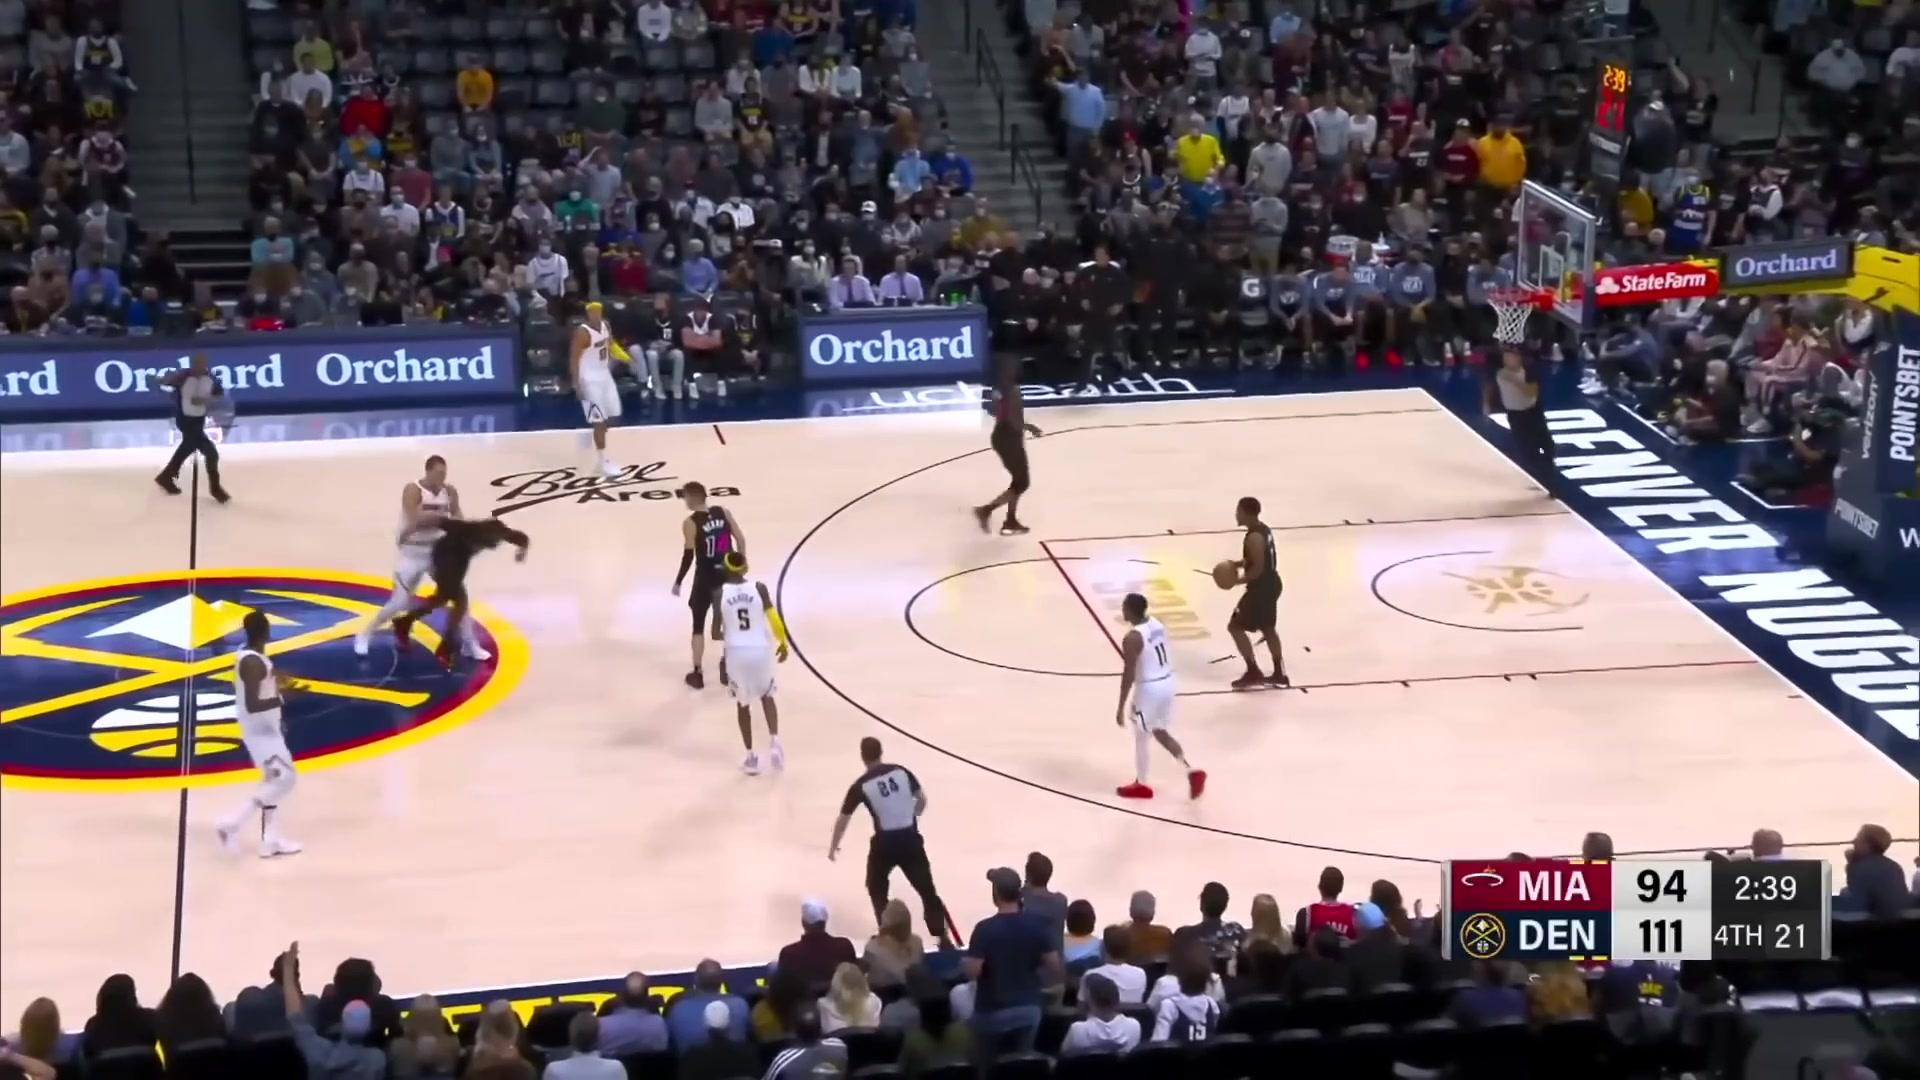foul: (341, 430, 518, 677)
